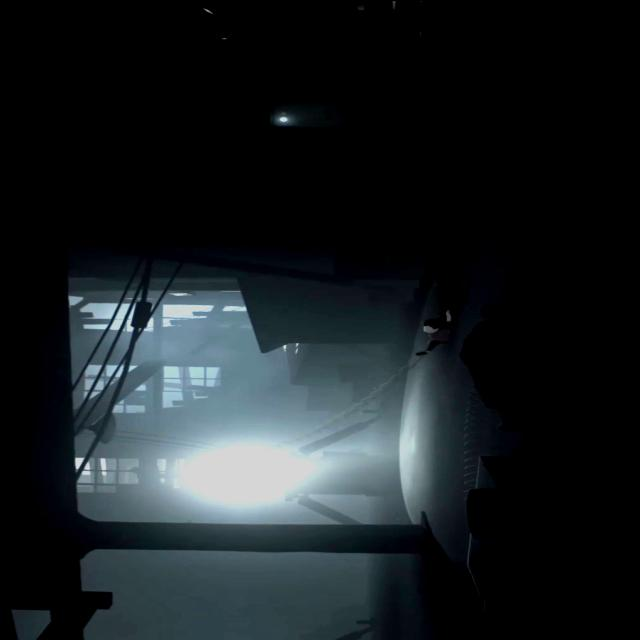boy: (416, 306, 459, 356)
zombie: (462, 302, 524, 432)
